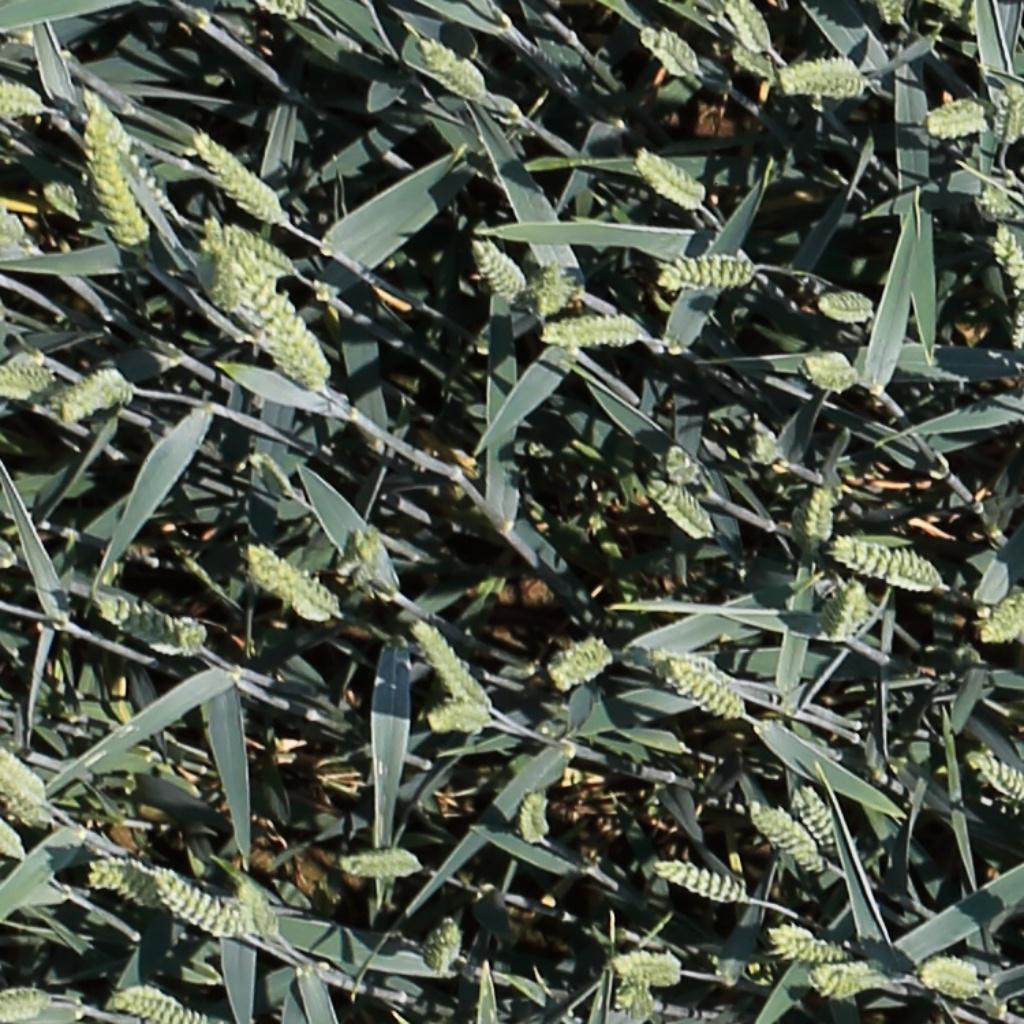0-0: (232, 248, 330, 389), (84, 109, 148, 255), (191, 126, 283, 221), (408, 614, 492, 715), (247, 546, 343, 633), (91, 586, 206, 652), (831, 531, 945, 597), (154, 872, 255, 940), (656, 652, 750, 724), (537, 311, 655, 360), (646, 856, 751, 909), (81, 847, 168, 909), (234, 437, 307, 510), (750, 805, 826, 875), (54, 362, 139, 423), (331, 521, 396, 600), (117, 136, 178, 218), (910, 947, 992, 1007), (656, 250, 760, 296), (784, 339, 861, 401), (114, 974, 210, 1022), (548, 633, 622, 695), (200, 212, 244, 316), (809, 954, 892, 1009), (77, 81, 136, 157), (760, 916, 856, 962), (779, 54, 865, 105), (603, 943, 694, 991), (419, 38, 488, 101), (416, 907, 474, 981), (338, 837, 425, 886), (650, 485, 721, 545), (636, 146, 708, 204), (914, 93, 987, 150), (469, 232, 529, 299), (797, 782, 846, 864), (219, 222, 296, 274), (735, 407, 789, 479), (232, 872, 282, 946), (823, 574, 872, 649), (0, 346, 62, 404), (812, 282, 881, 332), (978, 77, 1024, 151), (536, 255, 584, 324), (972, 593, 1022, 658), (657, 437, 712, 496), (964, 751, 1024, 805), (7, 970, 72, 1019), (641, 25, 703, 76), (421, 700, 498, 741), (0, 744, 49, 808), (0, 761, 46, 828), (804, 475, 844, 551), (32, 174, 89, 227), (966, 167, 1018, 223), (726, 0, 776, 58), (991, 218, 1024, 304), (594, 980, 663, 1021), (515, 785, 557, 847), (4, 77, 55, 122), (0, 207, 40, 260), (1, 818, 36, 870), (255, 0, 311, 24), (880, 0, 909, 34)
